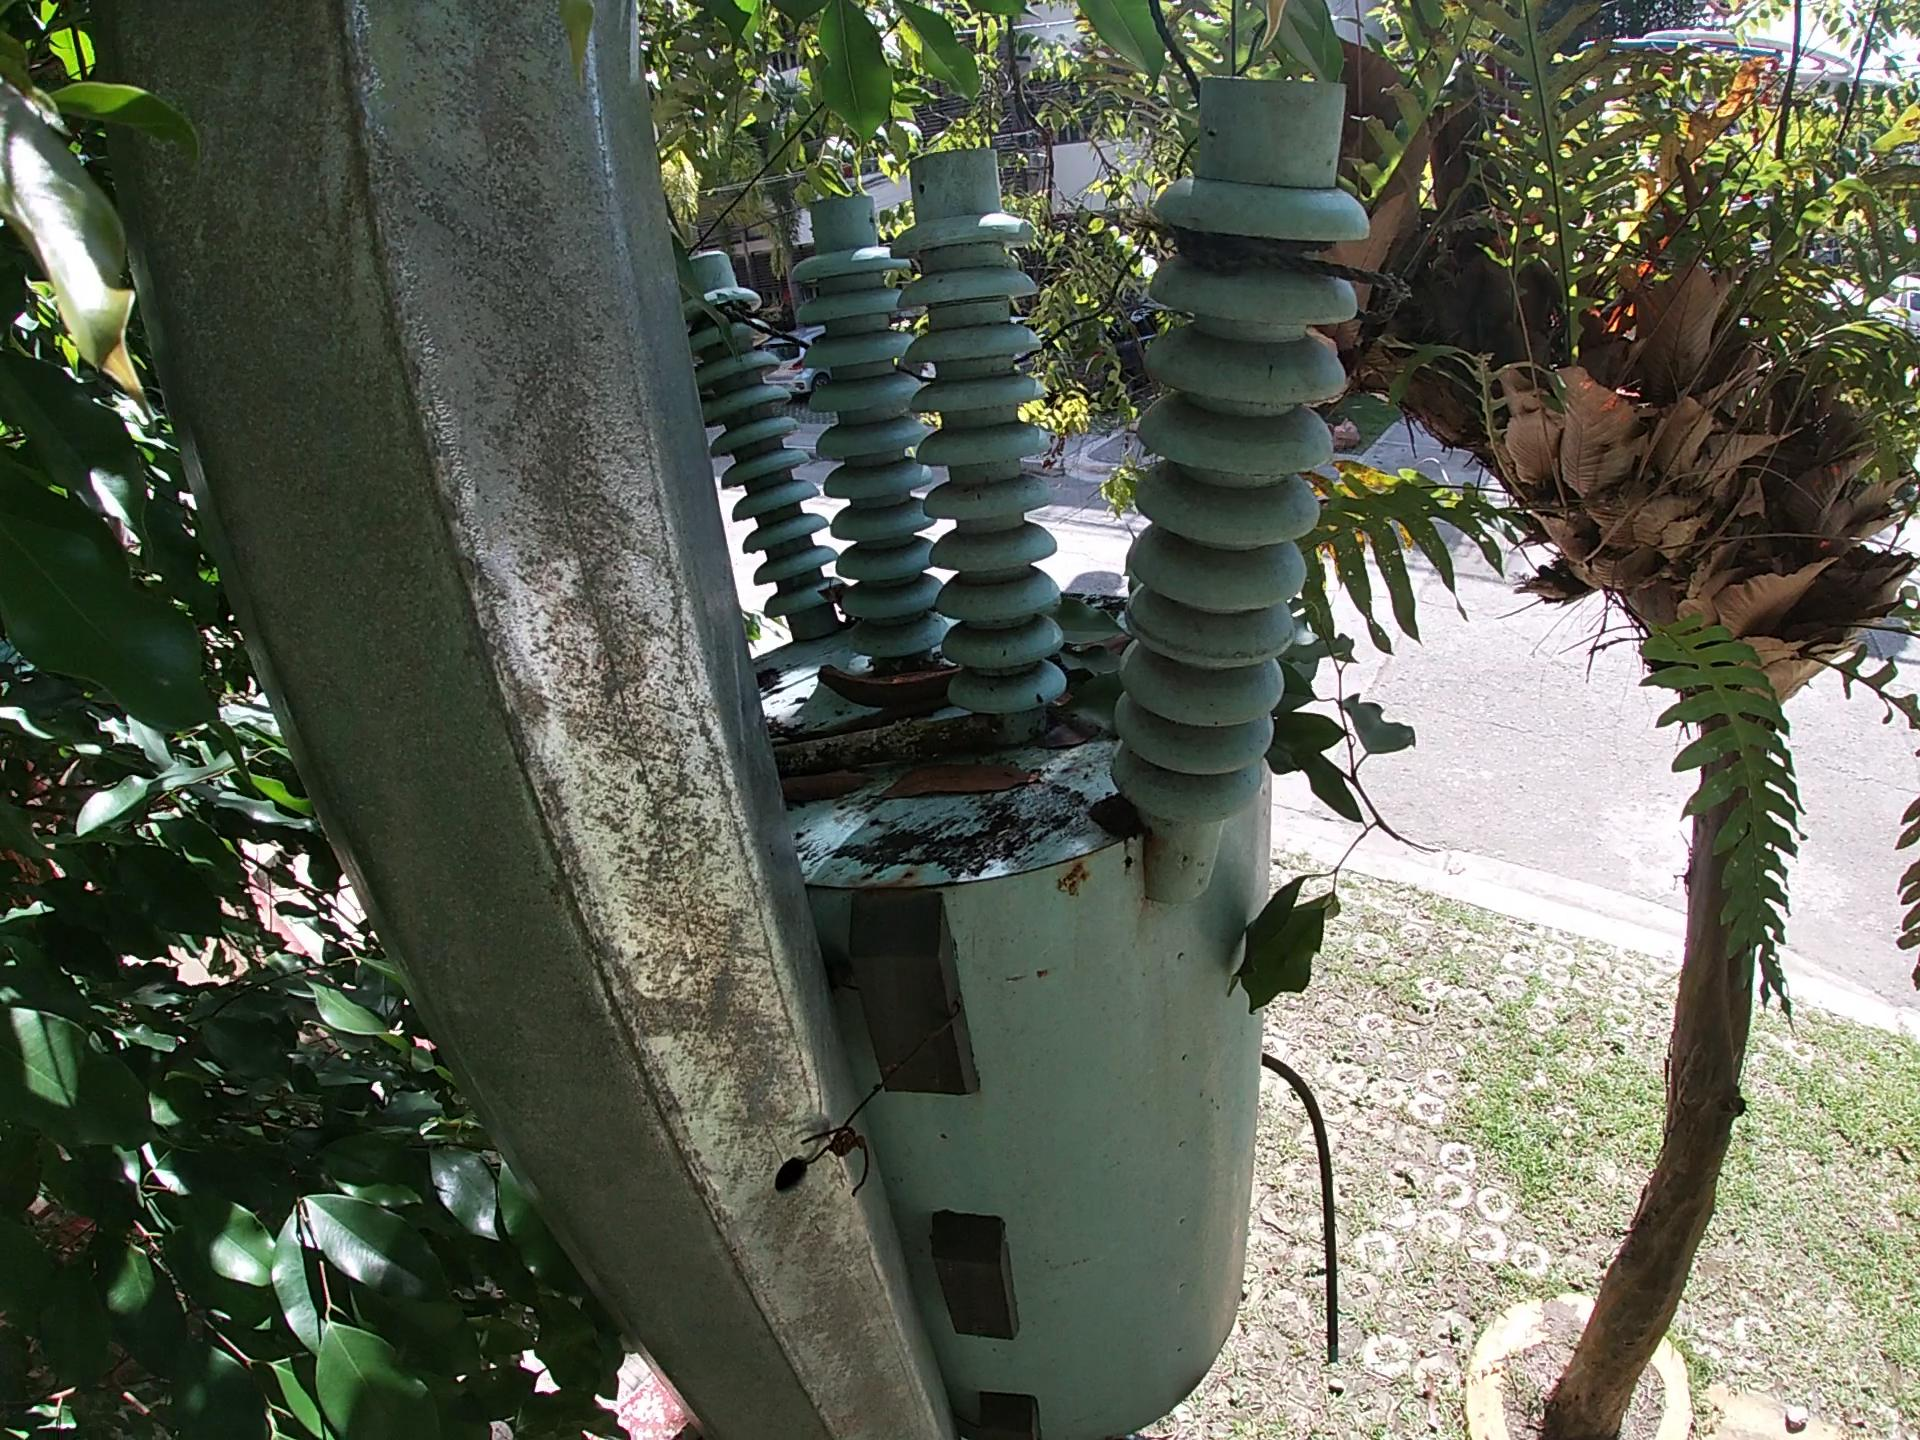branch with leaves: (1228, 597, 1438, 1026)
leaf: (1055, 555, 1157, 731), (866, 755, 1030, 805), (776, 768, 866, 811)
mahogany fruit: (813, 656, 962, 711)
tree branch: (763, 718, 972, 765)
